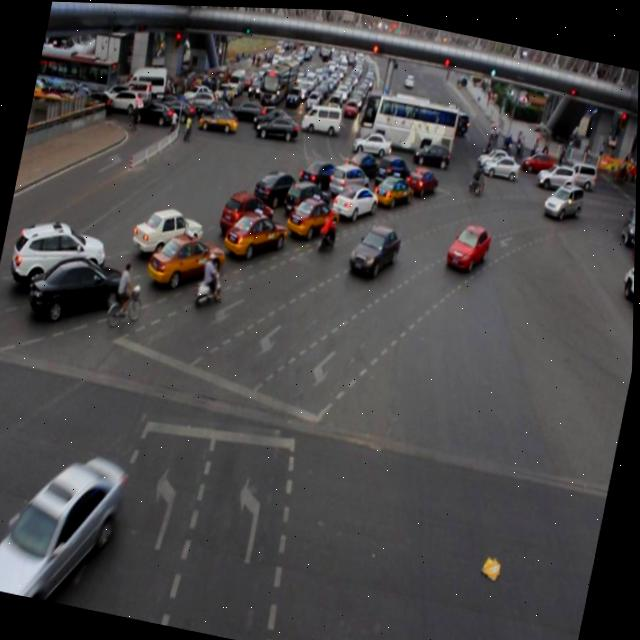car: (0, 459, 129, 601), (29, 246, 134, 330), (12, 214, 112, 298), (146, 226, 228, 291), (130, 199, 209, 262), (223, 203, 291, 258), (346, 217, 402, 277), (217, 184, 278, 239), (287, 188, 339, 241), (282, 175, 332, 222), (445, 218, 492, 267), (253, 163, 299, 211), (330, 178, 380, 222), (541, 174, 586, 220), (297, 152, 341, 196), (371, 167, 416, 210), (371, 149, 413, 190), (328, 158, 370, 197), (402, 158, 441, 200), (341, 146, 382, 183)
